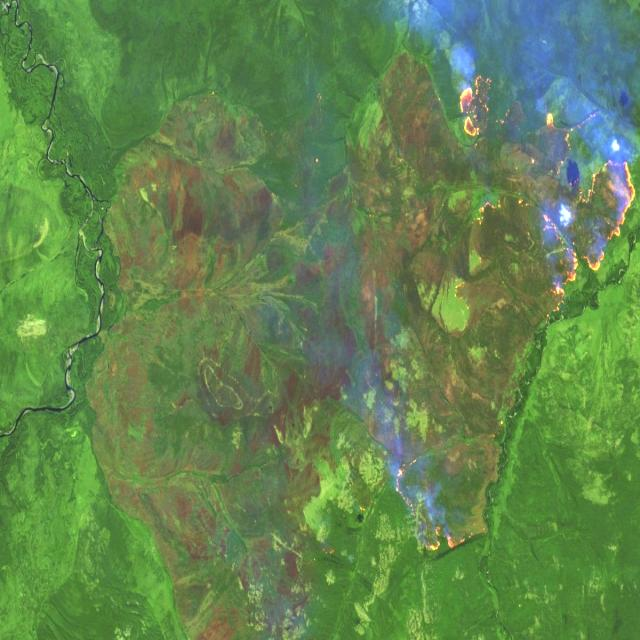fire: (455, 66, 640, 311), (388, 451, 472, 556)
